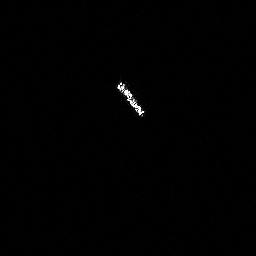ship: (118, 80, 145, 116)
